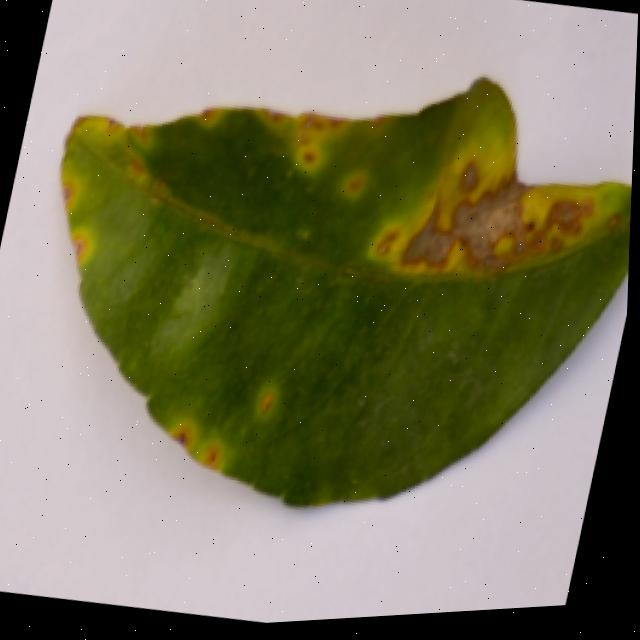canker: (62, 77, 632, 503), (361, 134, 608, 339), (9, 93, 168, 297), (211, 58, 374, 208), (156, 400, 240, 490)
